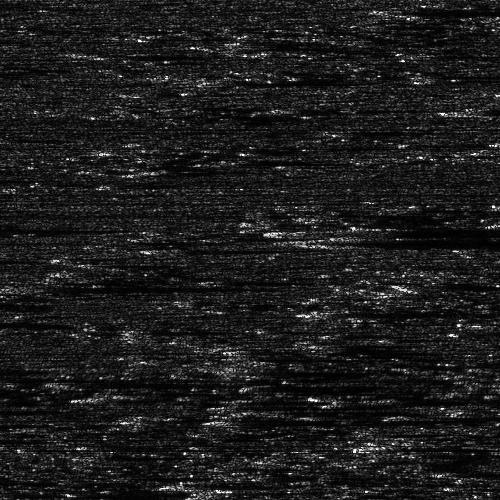object: (0, 274, 76, 301), (6, 373, 141, 388), (142, 415, 287, 428), (335, 4, 440, 15), (265, 237, 370, 246), (437, 105, 490, 116), (134, 246, 207, 251), (340, 445, 413, 450), (280, 310, 343, 315), (302, 226, 333, 233), (253, 384, 284, 389)
shadow: (13, 274, 233, 301), (215, 415, 438, 428), (74, 373, 230, 388), (317, 237, 500, 246), (388, 4, 500, 15), (0, 224, 93, 233), (312, 310, 473, 315), (269, 384, 396, 389), (171, 246, 288, 251), (0, 419, 63, 428), (377, 445, 472, 450), (463, 105, 500, 116), (0, 300, 39, 309), (0, 407, 69, 412), (317, 226, 359, 233), (0, 175, 48, 180), (0, 256, 21, 263), (0, 435, 18, 442)
